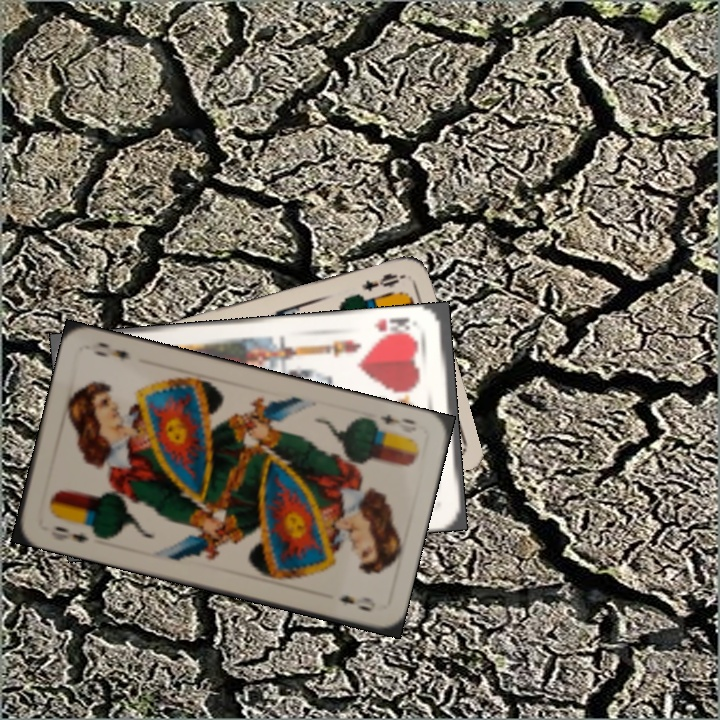EO: (357, 269, 409, 294), (366, 410, 418, 435), (50, 522, 92, 545)
HK: (370, 313, 417, 341)
